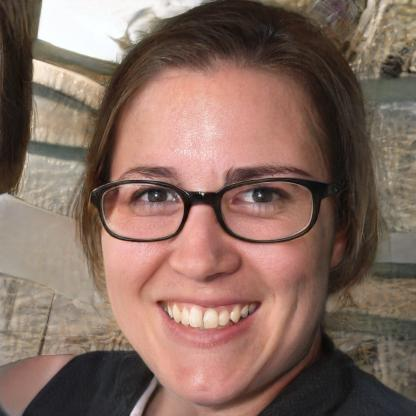glasses: (83, 172, 331, 247)
